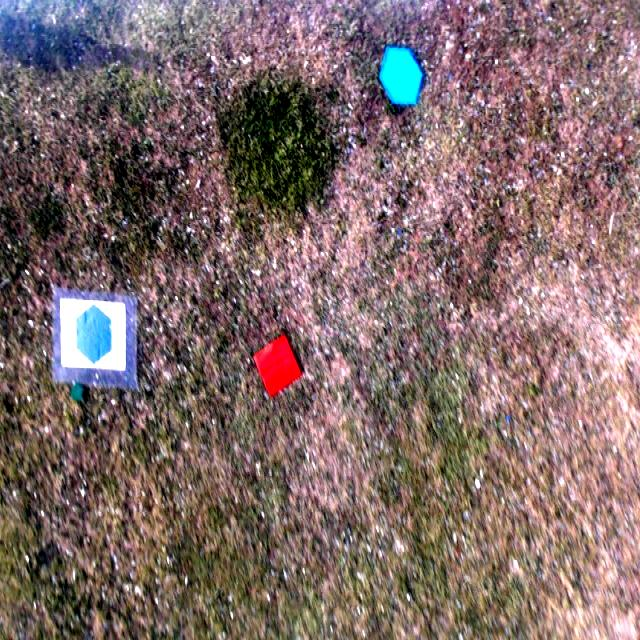blue_hexagon: (380, 45, 423, 105), (75, 304, 113, 362)
red_square: (255, 335, 301, 396)
